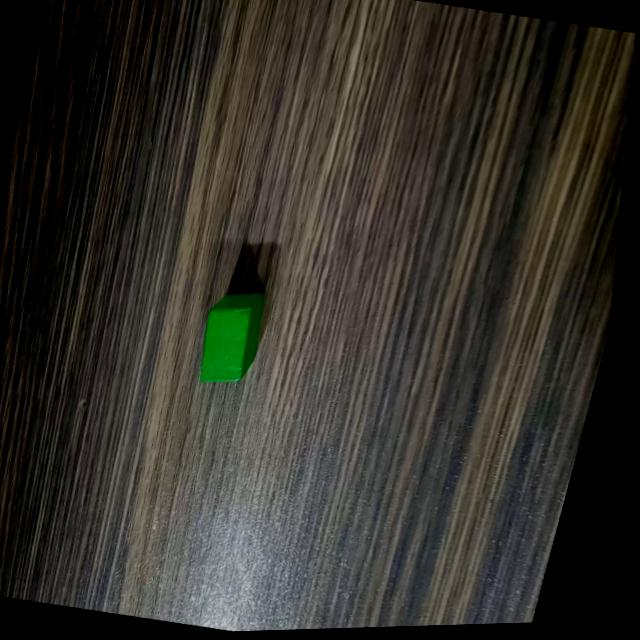cube: (195, 281, 281, 395)
